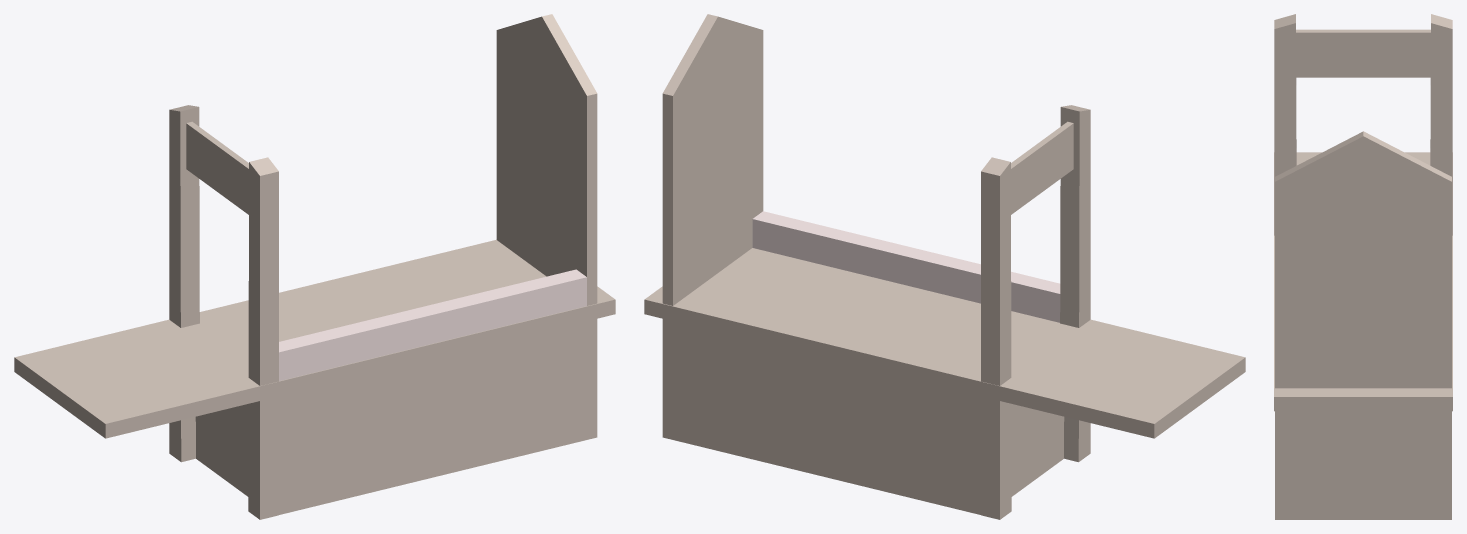
The model's file is Oden_GameStage.gltf.
The picture shows the model from 3 angles, left to right: view 1: azimuth 30°, elevation 25°; view 2: azimuth 150°, elevation 25°; view 3: azimuth 270°, elevation 25°; orthographic projection.
Visible parts, largest first — view 1: pCube1, pCube3, pCube4, pCube12, pCube11; view 2: pCube4, pCube1, pCube3, pCube12, pCube11; view 3: pCube1, pCube11, pCube4.
Part boxes in pixels (box(x1,y1,x2,y2)): pCube1: box(169, 14, 597, 519); pCube3: box(195, 321, 586, 514); pCube4: box(14, 239, 615, 438); pCube12: box(279, 269, 586, 380); pCube11: box(186, 121, 248, 214); pCube4: box(644, 248, 1245, 438); pCube1: box(662, 14, 1090, 519); pCube3: box(673, 321, 1064, 514); pCube12: box(752, 211, 1060, 322); pCube11: box(1011, 121, 1073, 214); pCube1: box(1274, 14, 1452, 519); pCube11: box(1296, 29, 1430, 77); pCube4: box(1274, 152, 1452, 411).
Size of the model in its own units: 37.93 by 27.75 by 11.73.
